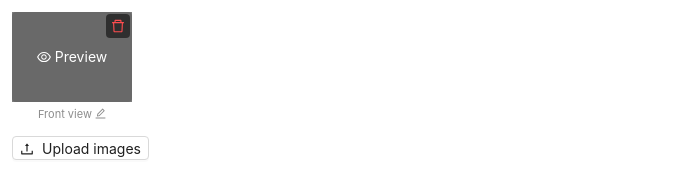
Test: MockupUploader › deleting an image confirms, then DELETEs it and removes it from the grid
Click the button named "delete": [118, 26] box [106,14,130,38]
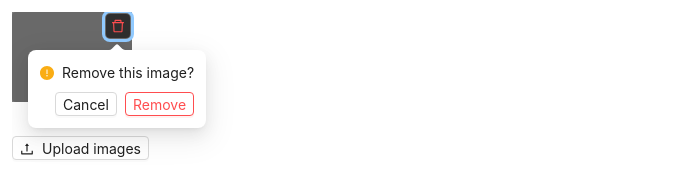
Click the button "Remove": [159, 104] box [125,92,194,116]
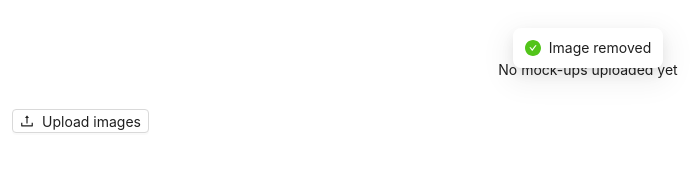
expect the text "Image removed" is shown: met, box [549,37,651,59]
expect the button "Front view" is gone: met
expect the text "No mock-ups uploaded yet" is shown: met, box [498,61,678,78]
